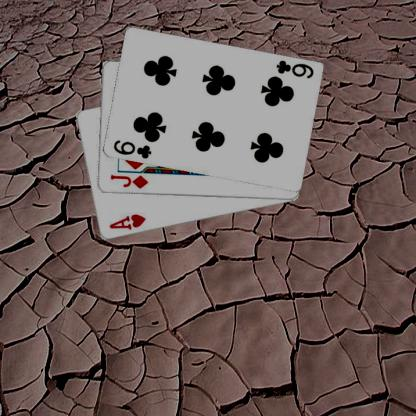6C: (110, 138, 152, 160), (273, 58, 314, 80)
AH: (107, 212, 146, 231)
JD: (108, 172, 149, 190)
